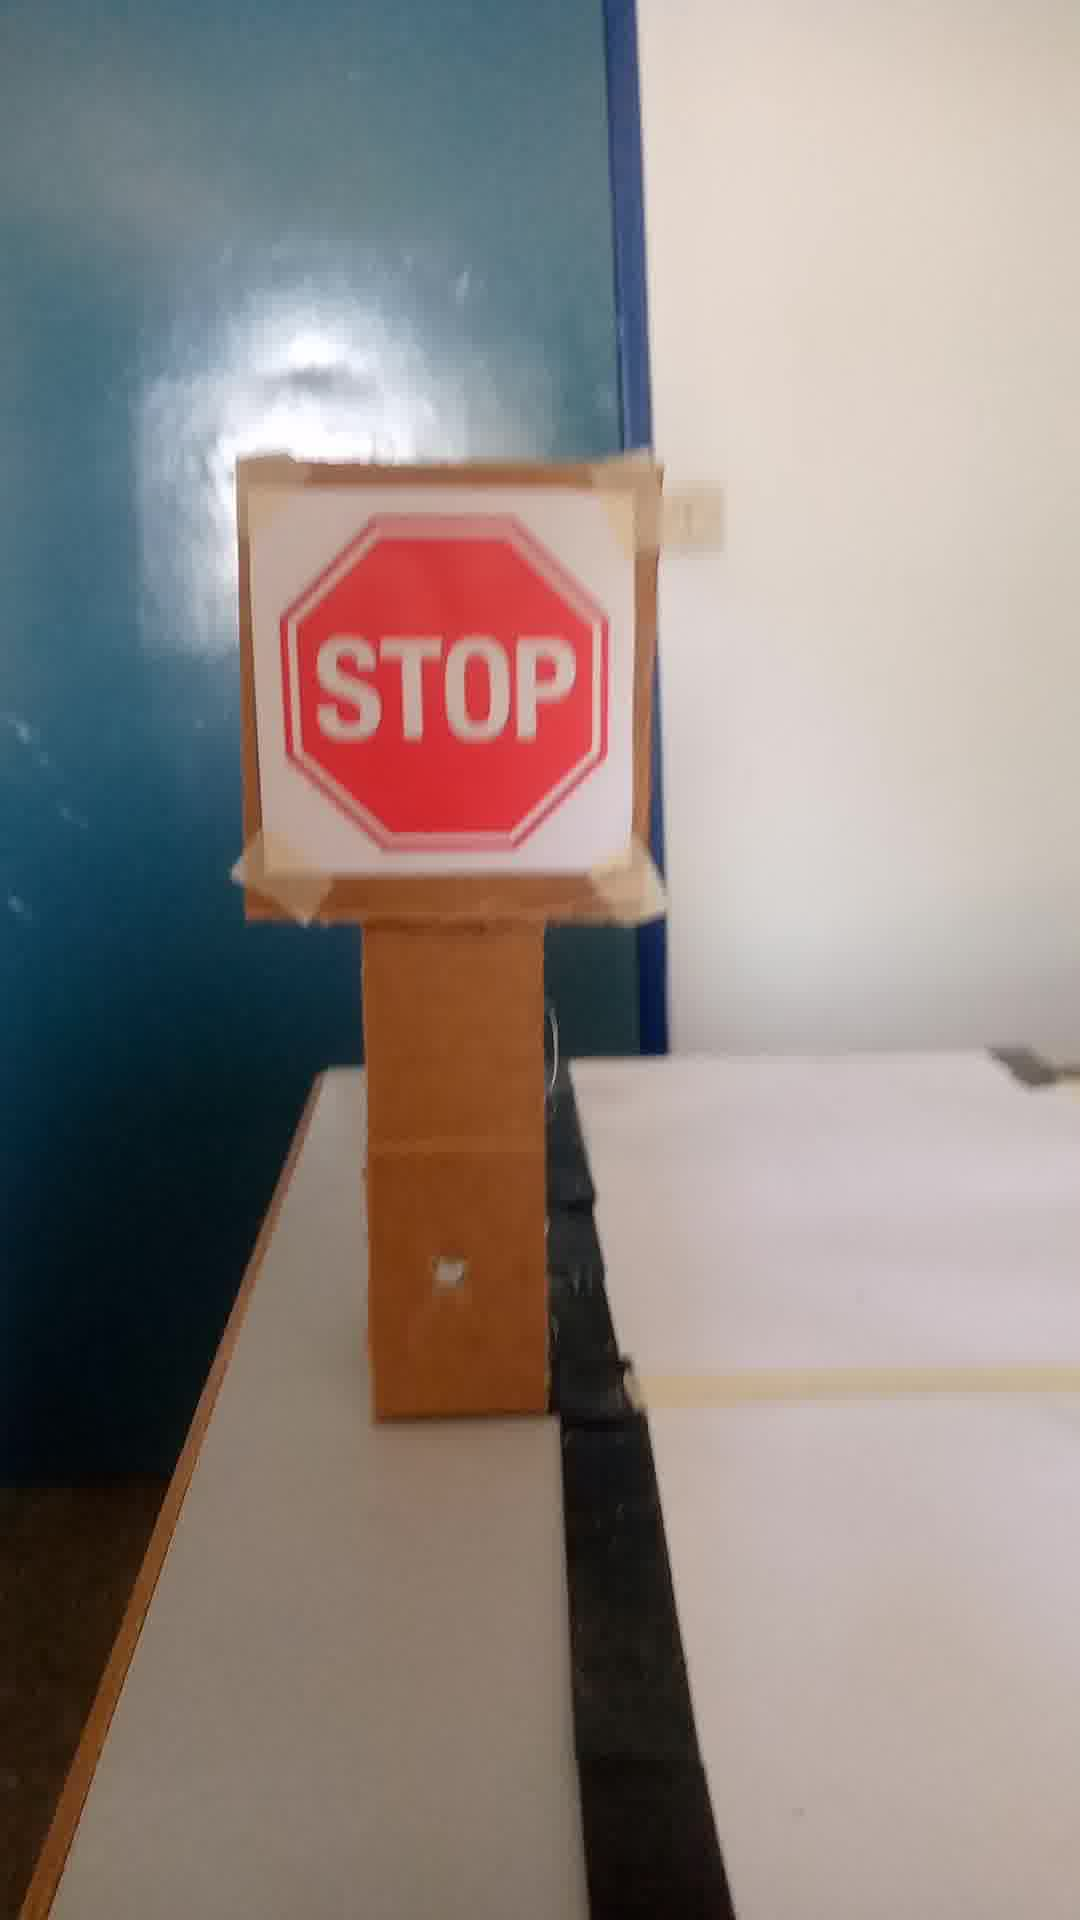panel101: (229, 469, 658, 906)
